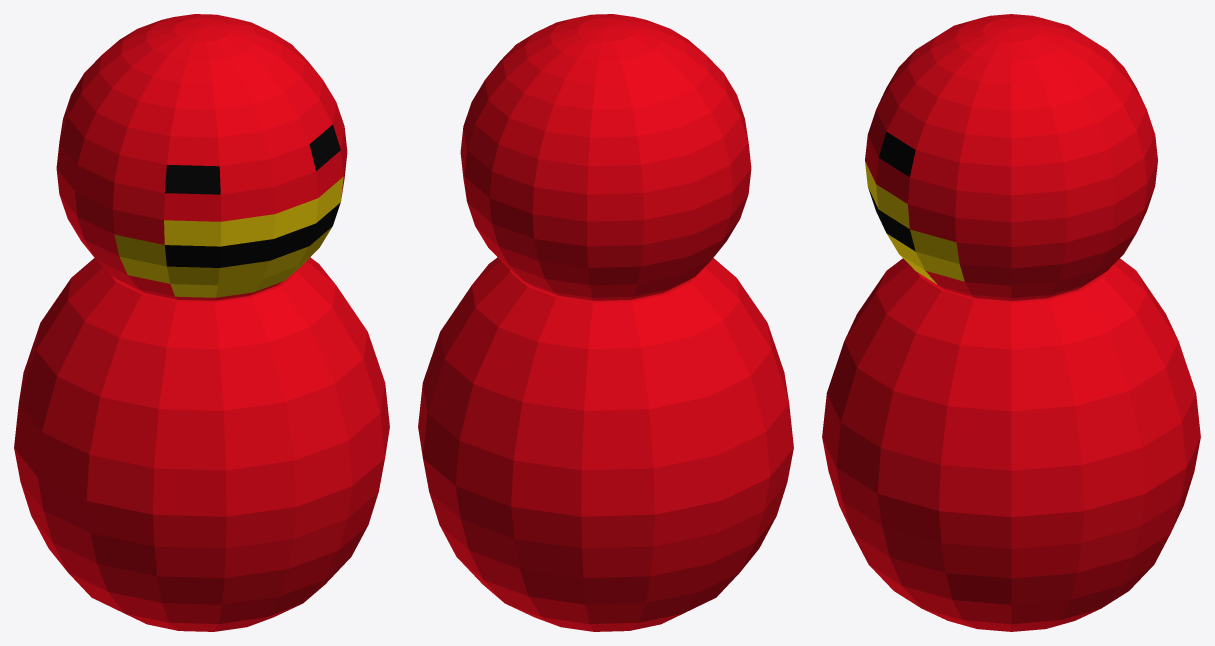
Rendered from bomberMan.fbx.
3 renders of one model, left to right at view 1: azimuth 30°, elevation 25°; view 2: azimuth 150°, elevation 25°; view 3: azimuth 270°, elevation 25°, orthographic.
Parts seen in each view (by area): view 1: Sphere.002, Sphere.003; view 2: Sphere.002, Sphere.003; view 3: Sphere.002, Sphere.003.
Boxes of the visible parts, x1,y1,x2,y2 form: Sphere.002: (14,257,389,631); Sphere.003: (56,14,347,300); Sphere.002: (418,257,793,631); Sphere.003: (460,14,751,300); Sphere.002: (822,258,1200,631); Sphere.003: (865,14,1157,300).
Size of the model in its own units: 160 by 272 by 160.
